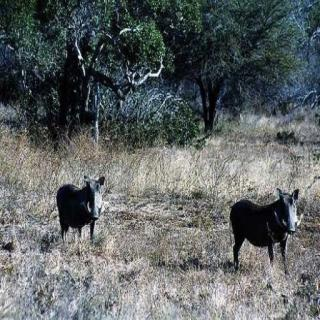Pig: (210, 174, 308, 266), (44, 154, 114, 250)
